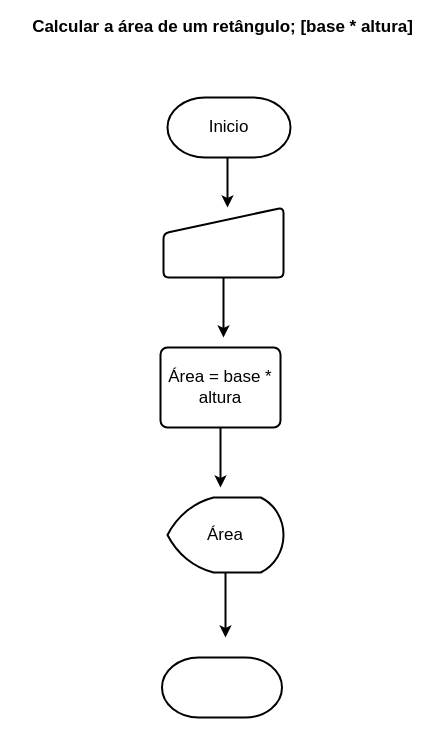
This 444x735 diagram has some shape labels left out. The shapes that lost their labels are listed below. From the top down, each one's centre as x and y in pixels, then its label:
point 223,242: Base Altura
point 221,687: Fim
